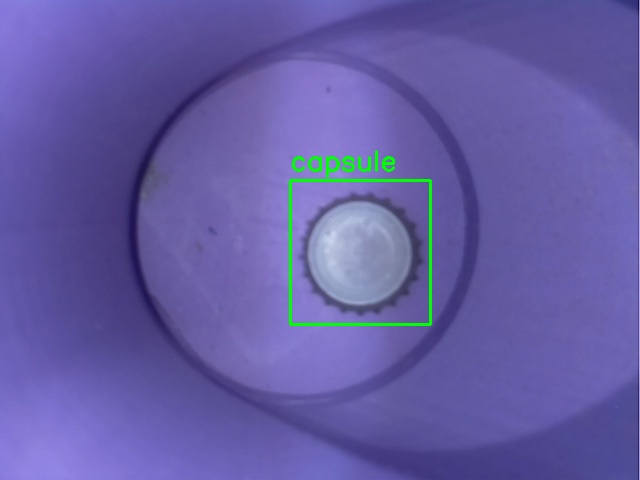capsule: (290, 180, 430, 324)
